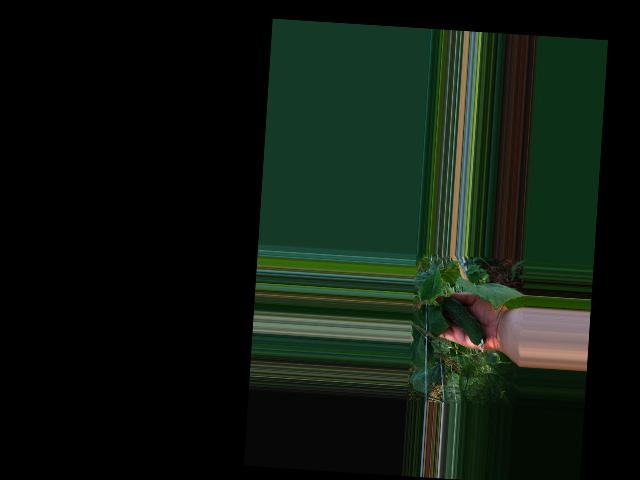cucumber: (438, 297, 488, 353)
